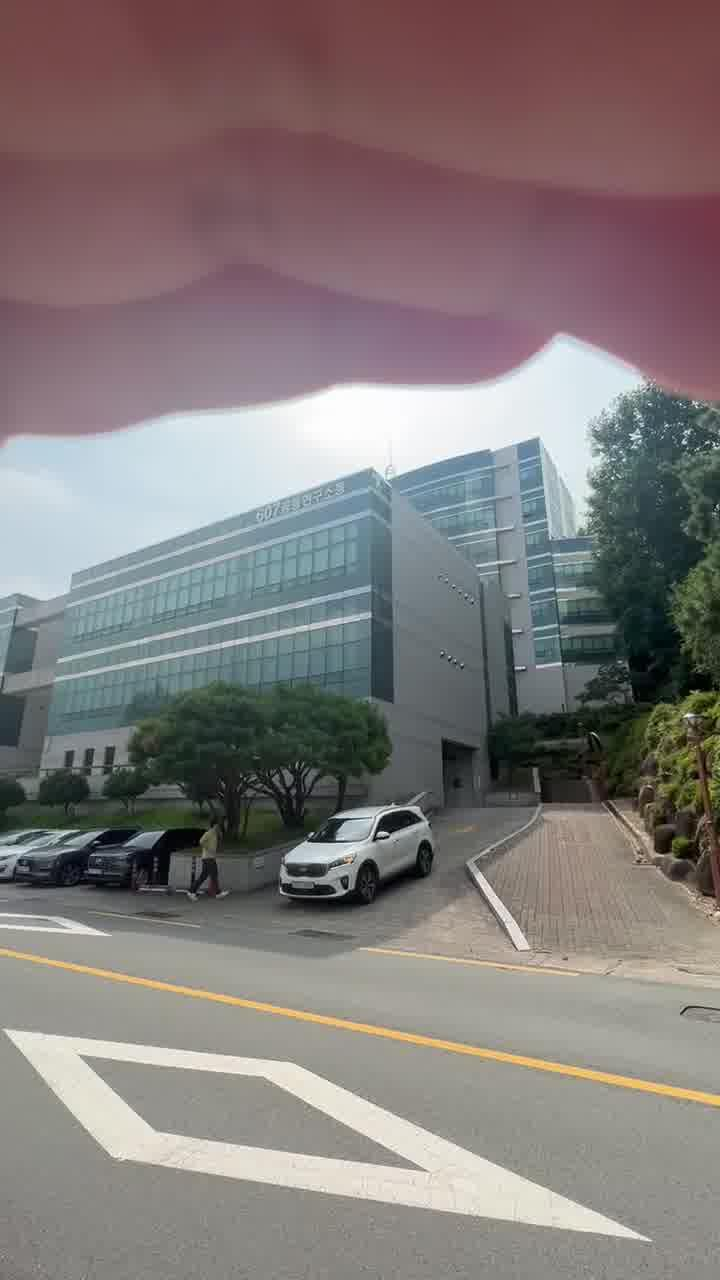building: (36, 430, 594, 736)
